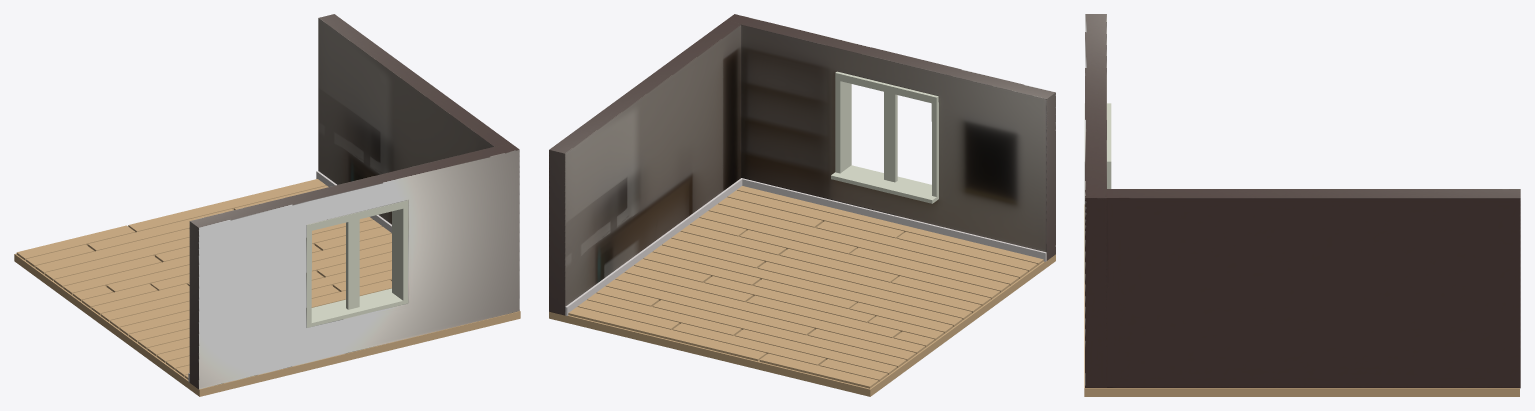
The model's file is RoomLighted.glb.
The picture shows the model from 3 angles, left to right: view 1: azimuth 30°, elevation 25°; view 2: azimuth 150°, elevation 25°; view 3: azimuth 270°, elevation 25°; orthographic projection. The views are drawn at different scales.
Visible parts, largest first — view 1: Room, FloorBoards, Window, Floor; view 2: Room, FloorBoards, Window, Floor, SkirtingBoard; view 3: Room, Floor, Window.
Boxes of the visible parts, bbox=[...] form: Room: bbox=[189, 14, 519, 389]; FloorBoards: bbox=[16, 179, 391, 379]; Window: bbox=[306, 200, 408, 327]; Floor: bbox=[14, 250, 520, 396]; Room: bbox=[549, 14, 1055, 315]; FloorBoards: bbox=[568, 186, 1043, 388]; Window: bbox=[831, 71, 938, 203]; Floor: bbox=[549, 254, 1055, 396]; SkirtingBoard: bbox=[565, 178, 1046, 315]; Room: bbox=[1085, 14, 1520, 388]; Floor: bbox=[1084, 204, 1519, 396]; Window: bbox=[1084, 103, 1111, 282].
Size of the model in its own units: 6.48 by 3.26 by 6.48.
Materials: 4 (1 with a texture image).
